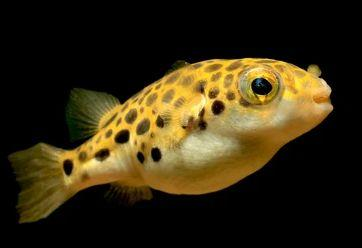Green Spotted Puffer: (16, 54, 335, 225)
